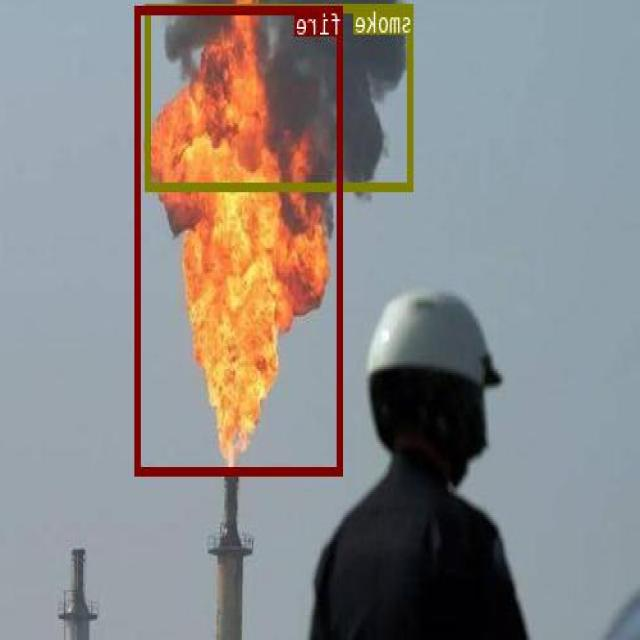fire: (137, 4, 344, 473)
smoke: (146, 3, 414, 188)
